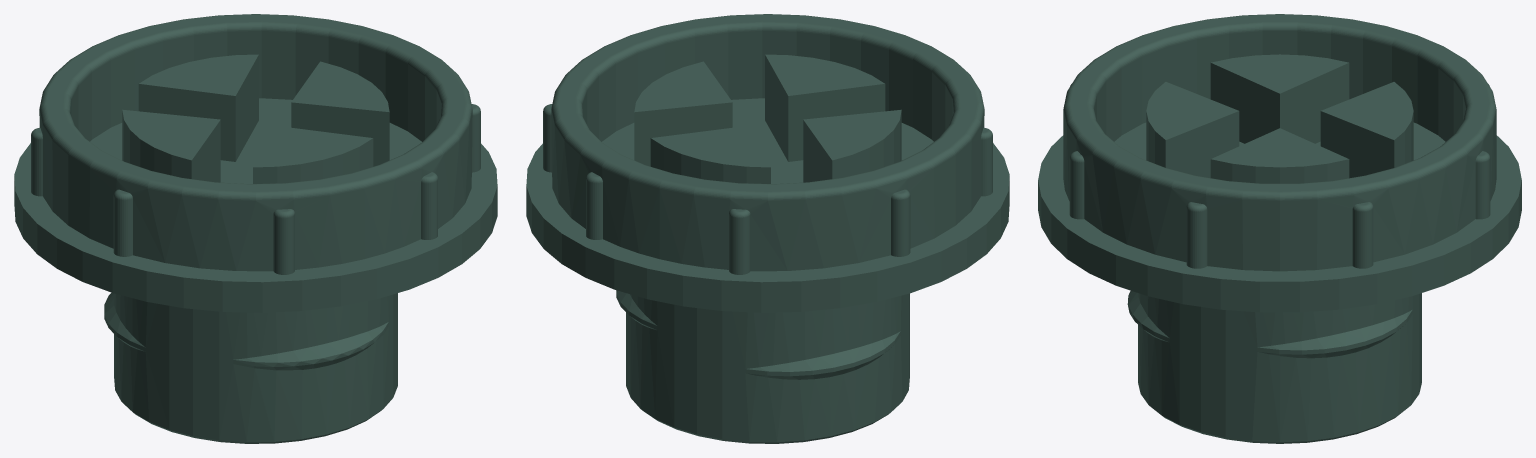
File: SRTFUPPCR.glb
3 renders of one model, left to right at view 1: azimuth 30°, elevation 25°; view 2: azimuth 150°, elevation 25°; view 3: azimuth 270°, elevation 25°, orthographic.
Visible parts, largest first — view 1: 20751241; view 2: 20751241; view 3: 20751241.
Boxes of the visible parts, left/top/right/bottom form: 20751241: left=14, top=14, right=497, bottom=443; 20751241: left=526, top=14, right=1009, bottom=443; 20751241: left=1038, top=14, right=1521, bottom=443.
Bounding box in the file's own units: 0.9966 × 0.6434 × 1.
